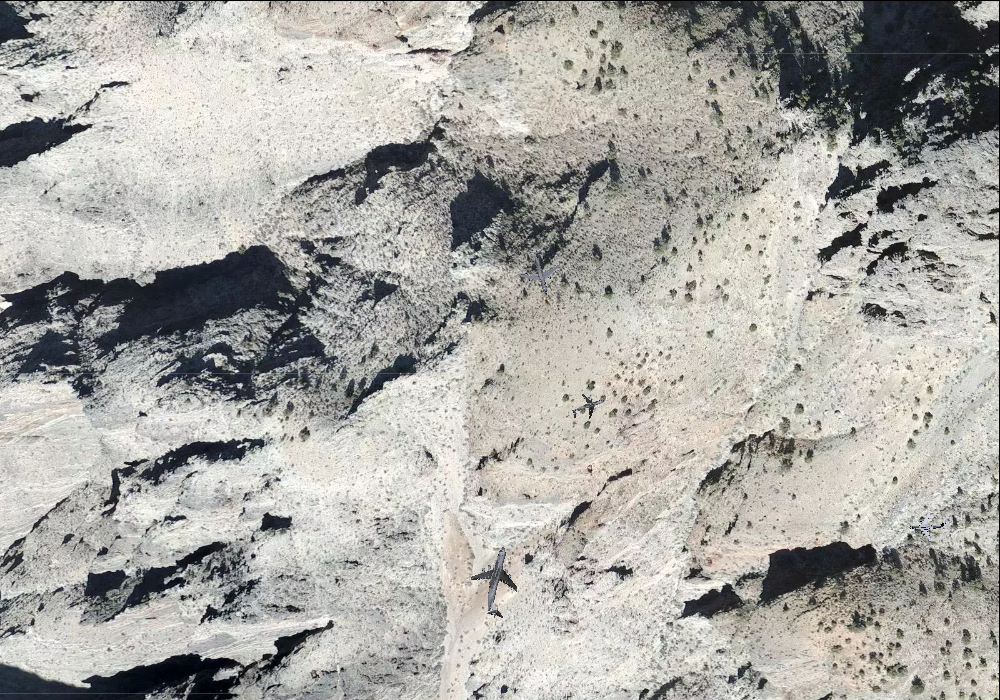plane: (459, 540, 537, 624), (513, 242, 568, 300), (567, 387, 608, 426), (909, 507, 948, 543)
